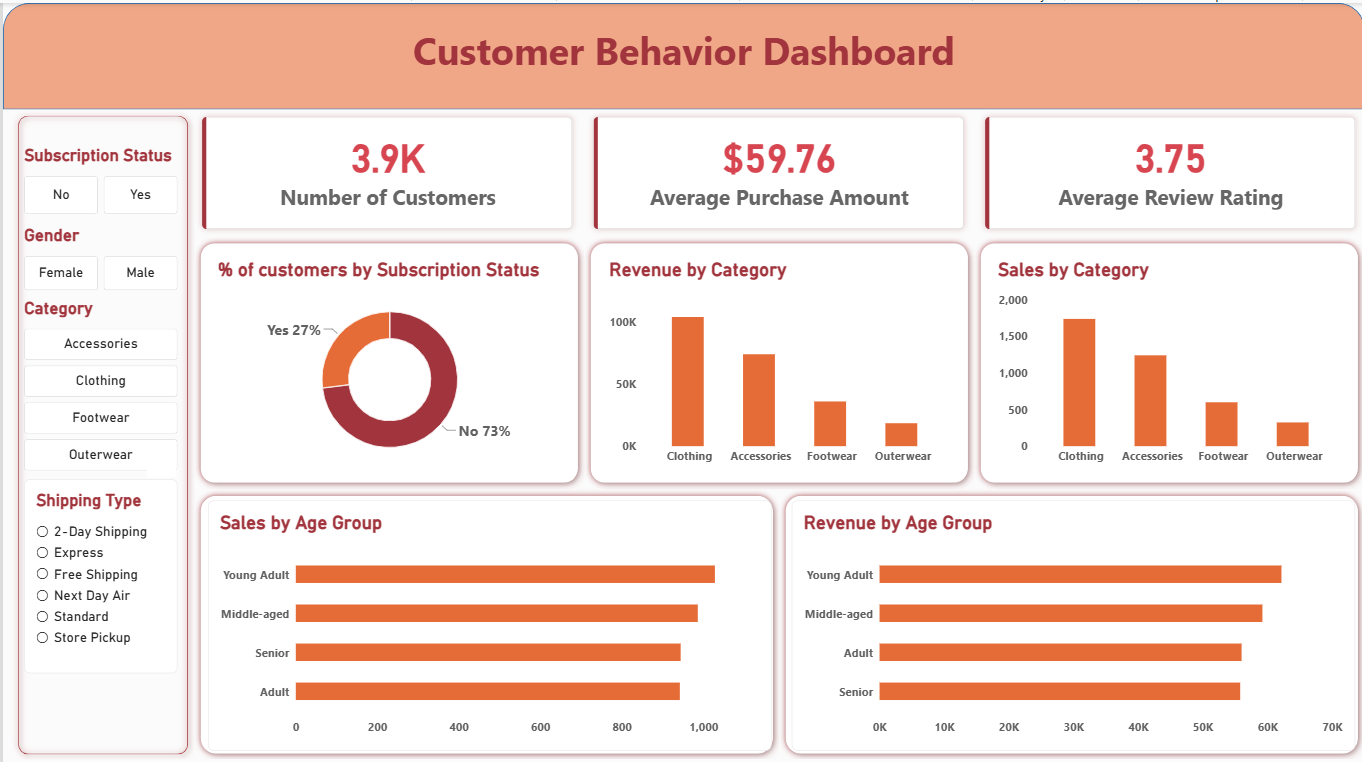

The dashboard page shown, as its layout file describes it:
{"tool":"powerbi","page":{"name":"Page 1","canvas":[1920,1080],"ordinal":0},"visuals":[{"type":"cardVisual","fields":{"Data":["customer_db customer.Number of Customers","customer_db customer.Average Purchase Amount","customer_db customer.Average Review Rating"]},"box":[270,150,1650,180],"z":0},{"type":"shape","box":[0,0,1920,150],"z":1000},{"type":"textbox","box":[0,30,1920,94],"z":2000},{"type":"shape","box":[270,330,550,356],"z":3000},{"type":"donutChart","title":"% of customers by Subscription Status","fields":{"Category":["customer_db customer.subscription_status"],"Y":["Count(customer_db customer.customer_id)"]},"box":[288,346,516,326],"z":4000},{"type":"shape","box":[820,330,550,356],"z":5000},{"type":"shape","box":[1370,330,550,356],"z":6000},{"type":"clusteredColumnChart","title":"Revenue by Category","fields":{"Category":["customer_db customer.category"],"Y":["Sum(customer_db customer.purchase_amount)"]},"box":[839.3,345.8,511.5,326],"z":7000},{"type":"clusteredColumnChart","title":"Sales by Category","fields":{"Category":["customer_db customer.category"],"Y":["CountNonNull(customer_db customer.customer_id)"]},"box":[1386.9,345.8,515.1,326],"z":8000},{"type":"shape","box":[12.6,149.5,257.6,918.6],"z":9000},{"type":"advancedSlicerVisual","title":"Subscription Status","fields":{"Values":["customer_db customer.subscription_status"]},"box":[30,200.9,216.8,96.9],"z":10000},{"type":"advancedSlicerVisual","title":"Gender","fields":{"Values":["customer_db customer.gender"]},"box":[30.6,313.4,216.1,91.9],"z":11000},{"type":"advancedSlicerVisual","title":"Category","fields":{"Values":["customer_db customer.category"]},"box":[30.6,416.1,216.1,246.8],"z":12000},{"type":"listSlicer","title":"Shipping Type","fields":{"Values":["customer_db customer.shipping_type"]},"box":[30.6,671.8,216.1,273.8],"z":13000},{"type":"shape","box":[270.2,686.2,824.9,381.8],"z":13001},{"type":"shape","box":[1095.1,686.2,824.9,381.8],"z":13002},{"type":"clusteredBarChart","title":"Sales by Age Group","fields":{"Category":["customer_db customer.age_group"],"Y":["CountNonNull(customer_db customer.customer_id)"]},"box":[288.2,700.6,794.3,353],"z":13003},{"type":"clusteredBarChart","title":"Revenue by Age Group","fields":{"Category":["customer_db customer.age_group"],"Y":["Sum(customer_db customer.purchase_amount)"]},"box":[1111.3,700.6,794.3,353],"z":13004}]}

Visuals, with their boxes in screenshot pixels (x1, y1, x2, y2), scaled from the page's 1920x1080 canvas onto the 1362x762 screenshot:
cardVisual - customer_db customer.Number of Customers x customer_db customer.Average Purchase Amount: bbox=(192, 106, 1361, 233)
shape: bbox=(0, 0, 1361, 106)
textbox: bbox=(0, 21, 1361, 87)
shape: bbox=(192, 233, 582, 484)
"% of customers by Subscription Status" donutChart: bbox=(204, 244, 570, 474)
shape: bbox=(582, 233, 972, 484)
shape: bbox=(972, 233, 1361, 484)
"Revenue by Category" clusteredColumnChart: bbox=(595, 244, 958, 474)
"Sales by Category" clusteredColumnChart: bbox=(984, 244, 1349, 474)
shape: bbox=(9, 105, 192, 754)
"Subscription Status" advancedSlicerVisual: bbox=(21, 142, 175, 210)
"Gender" advancedSlicerVisual: bbox=(22, 221, 175, 286)
"Category" advancedSlicerVisual: bbox=(22, 294, 175, 468)
"Shipping Type" listSlicer: bbox=(22, 474, 175, 667)
shape: bbox=(192, 484, 777, 754)
shape: bbox=(777, 484, 1361, 754)
"Sales by Age Group" clusteredBarChart: bbox=(204, 494, 768, 743)
"Revenue by Age Group" clusteredBarChart: bbox=(788, 494, 1352, 743)
